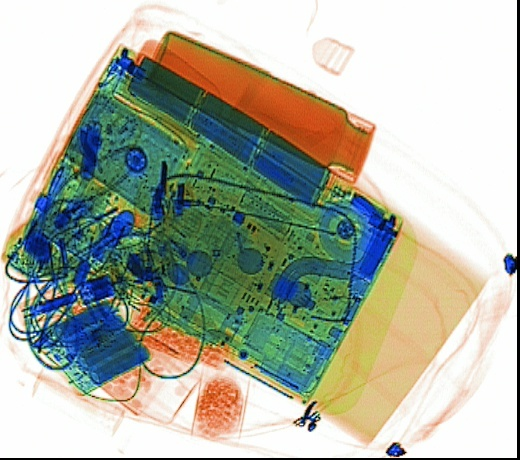powerbank: (32, 294, 154, 397)
